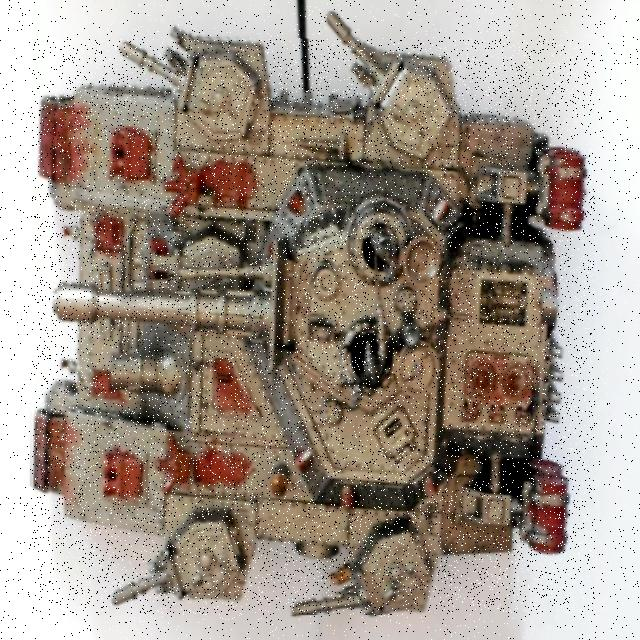MIL_MBT: (32, 39, 594, 614)
